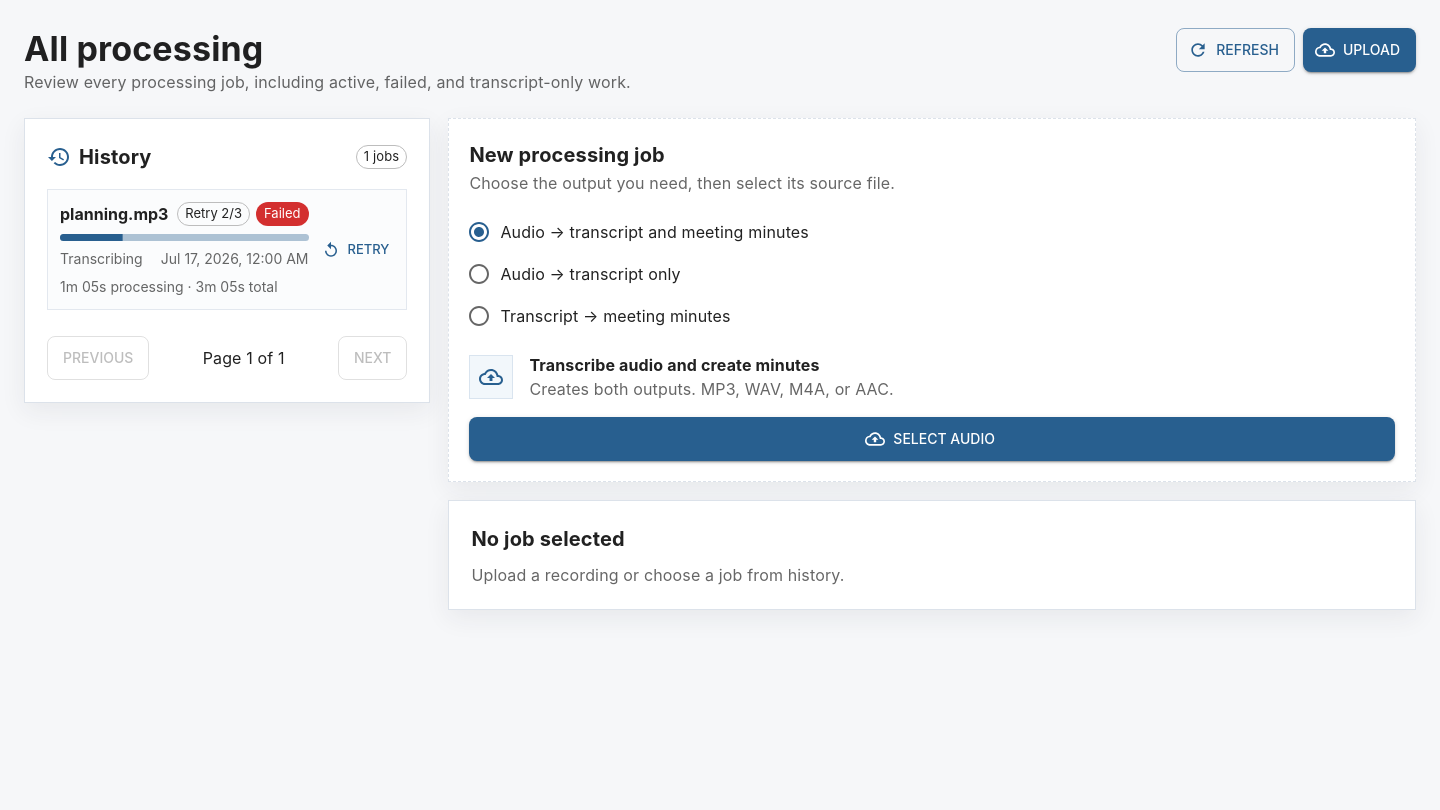
Test case: MeetingMind workflow › retries a failed job and presents the queued state
The width and height of the screenshot is (1440, 810).
Click the button "Retry" at (356, 250), box [318,228,394,272]
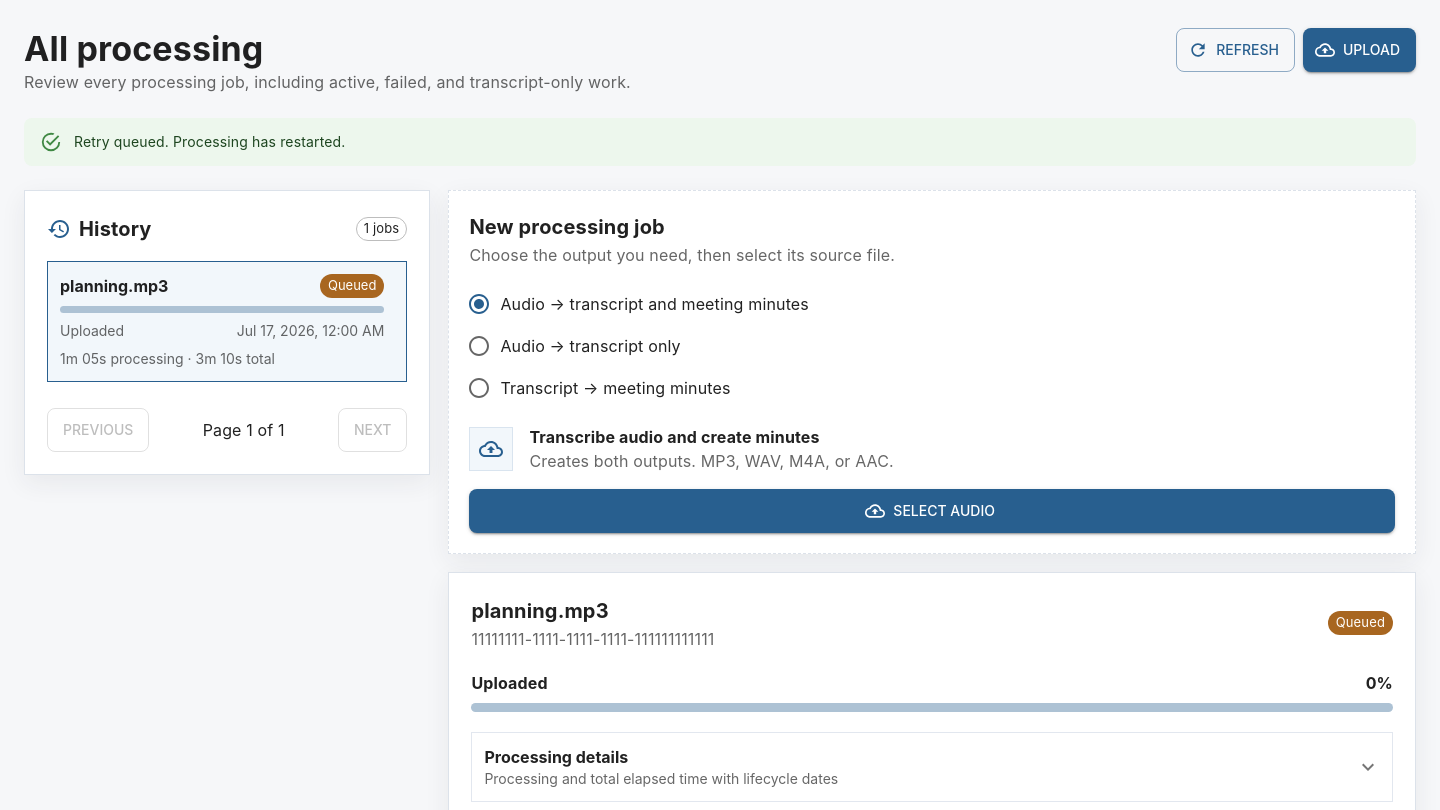
Expected: the text "Retry queued. Processing has restarted." is shown, [74,133,346,150]
Expected: the text "Uploaded" is shown 2 times, [60,321,124,341]; [471,671,548,695]
Expected: the text "Retry 2/3" is gone
